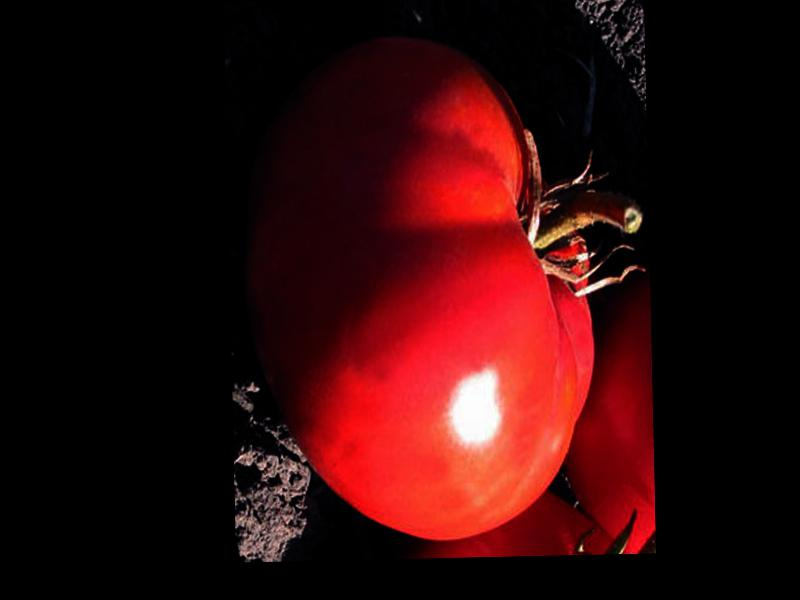Tomato: (240, 31, 596, 544)
